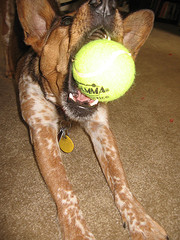tennis ball: (69, 35, 142, 105)
